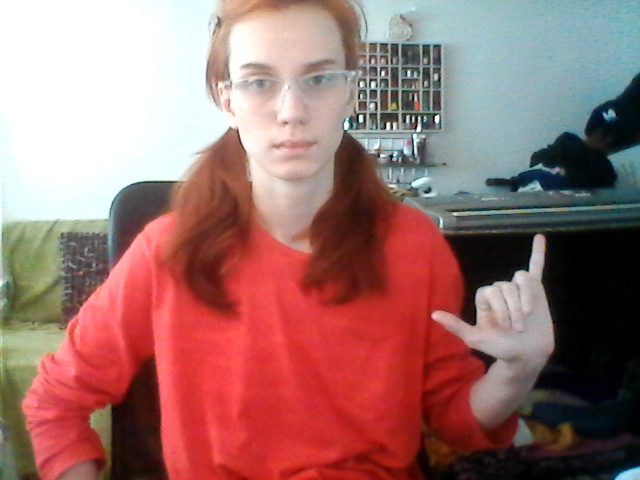kto: (424, 232, 571, 375)
